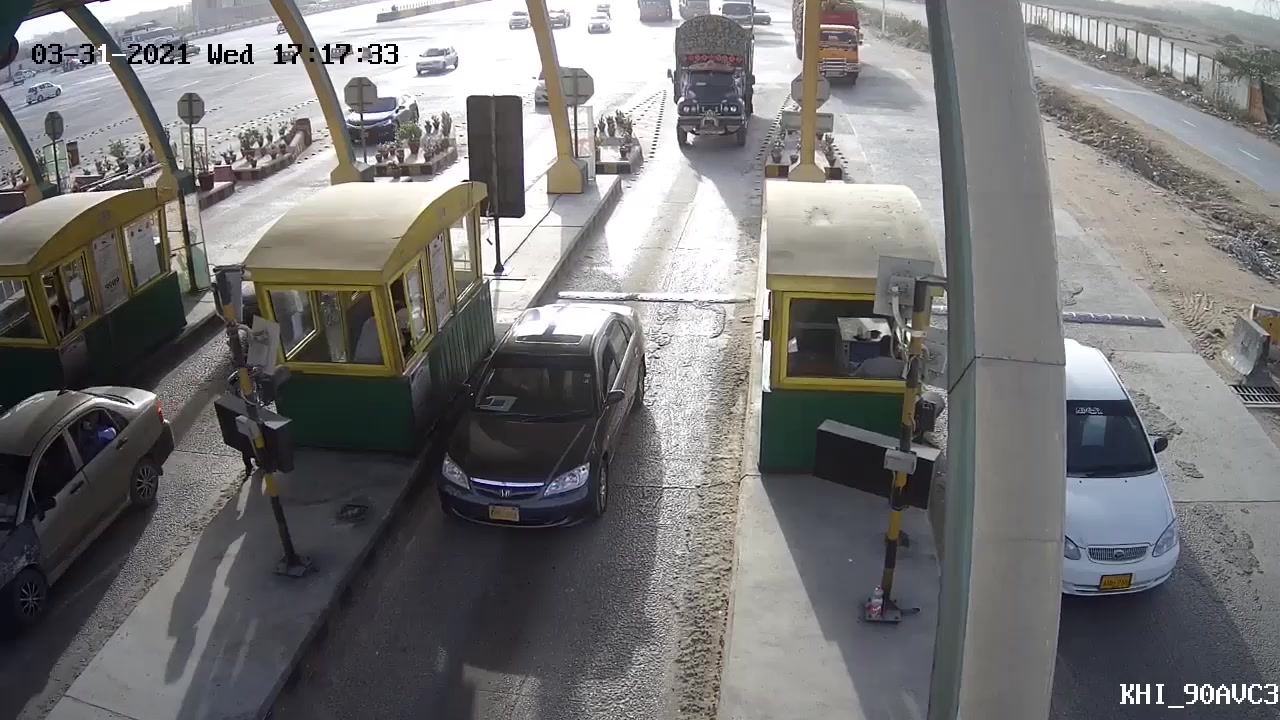F1: (425, 305, 650, 535)
